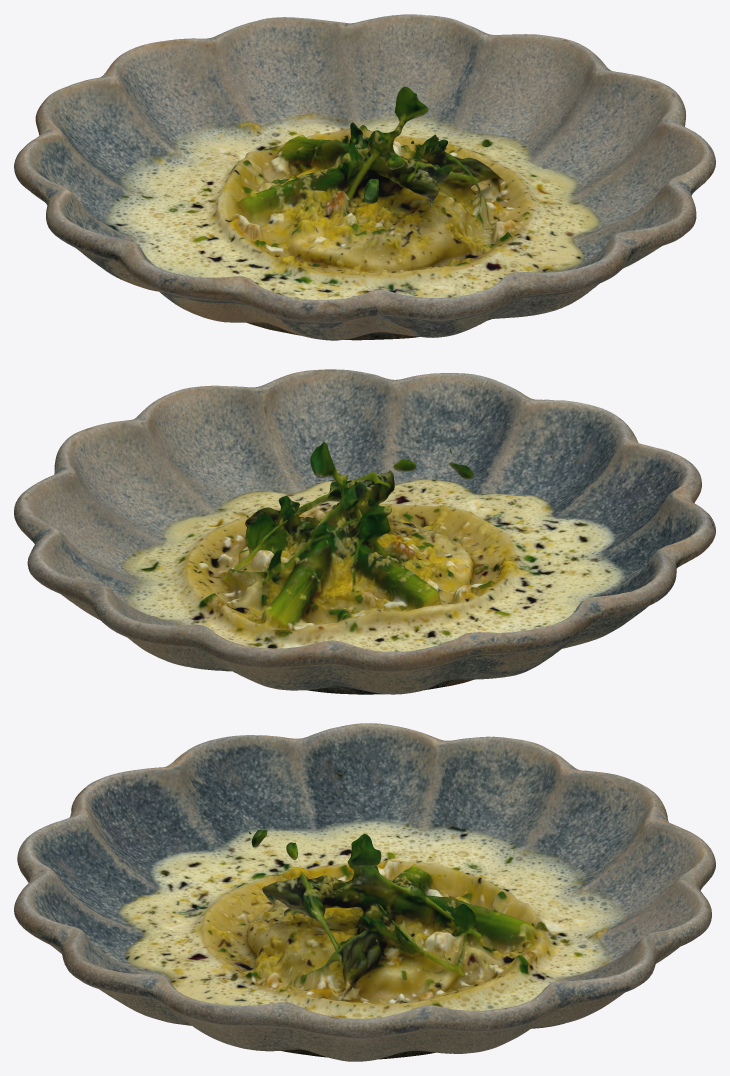
Rendered from ravioles.glb.
3 renders of one model, top to bottom at view 1: azimuth 30°, elevation 25°; view 2: azimuth 150°, elevation 25°; view 3: azimuth 270°, elevation 25°, orthographic.
Parts seen in each view (by area): view 1: _1C7DBDE6_CD60_40AE_AF28_8B3DF7BBDBCB; view 2: _1C7DBDE6_CD60_40AE_AF28_8B3DF7BBDBCB; view 3: _1C7DBDE6_CD60_40AE_AF28_8B3DF7BBDBCB.
Boxes of the visible parts, bbox=[...] form: _1C7DBDE6_CD60_40AE_AF28_8B3DF7BBDBCB: bbox=[14, 14, 715, 340]; _1C7DBDE6_CD60_40AE_AF28_8B3DF7BBDBCB: bbox=[14, 369, 715, 694]; _1C7DBDE6_CD60_40AE_AF28_8B3DF7BBDBCB: bbox=[14, 723, 715, 1061].
Size of the model in its own units: 0.2 by 0.0519 by 0.1981.
Materials: 1 (1 with a texture image).
